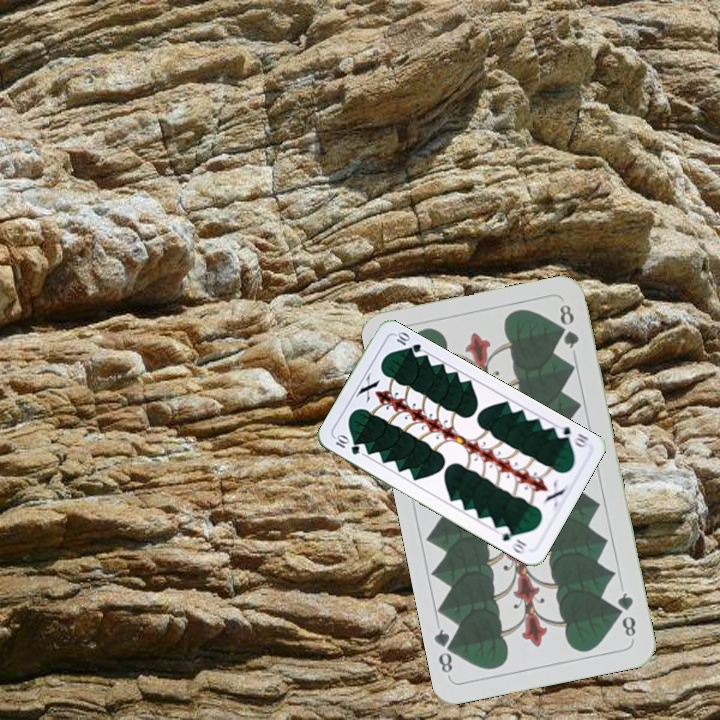G10: (551, 422, 592, 451), (331, 431, 362, 458)
G8: (613, 588, 639, 640)
